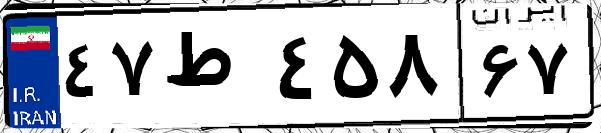4: (270, 28, 330, 110), (57, 26, 110, 100)
5: (330, 28, 385, 110)
6: (475, 38, 525, 113)
7: (525, 38, 570, 115), (110, 28, 158, 98)
8: (385, 28, 445, 110)
ط: (158, 20, 270, 120)
